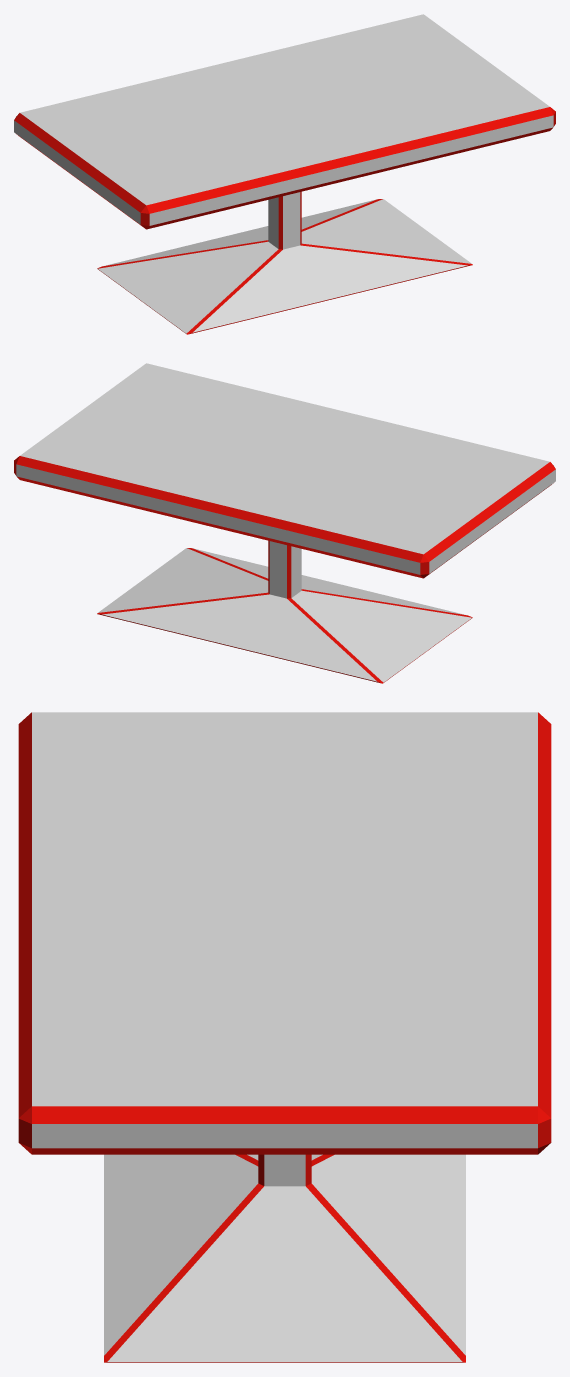
The model's file is Table.fbx.
The picture shows the model from 3 angles, top to bottom: view 1: azimuth 30°, elevation 25°; view 2: azimuth 150°, elevation 25°; view 3: azimuth 270°, elevation 25°; orthographic projection. The views are drawn at different scales.
Parts seen in each view (by area): view 1: Cube; view 2: Cube; view 3: Cube.
Part boxes in pixels (box(x1,y1,x2,y2)): Cube: box(14, 14, 555, 334); Cube: box(14, 363, 555, 683); Cube: box(18, 712, 551, 1362).
Size of the model in its own units: 360 by 130 by 200.
